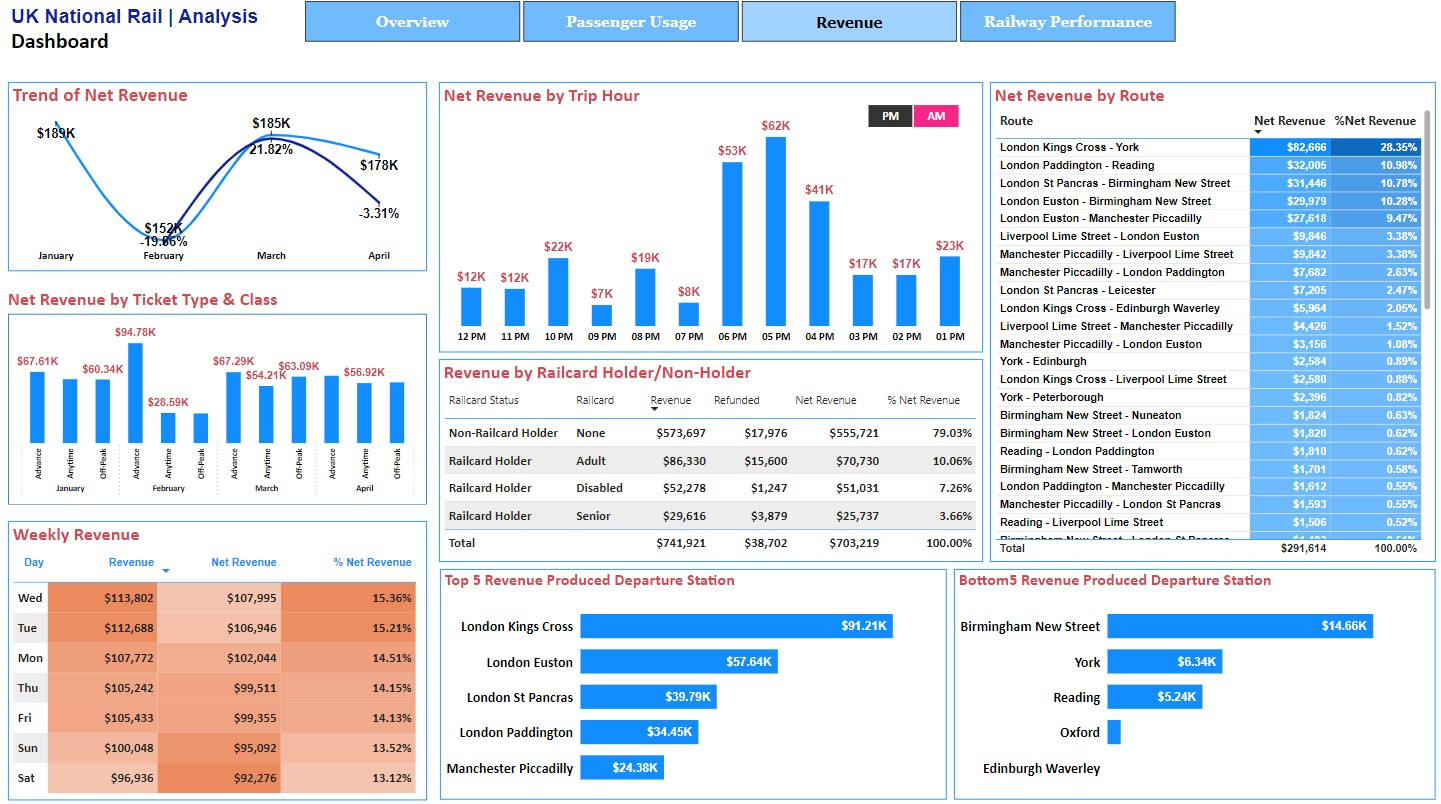

Layout of this report page (visuals, bound fields, positions):
{"tool":"powerbi","page":{"name":"Revenue","canvas":[1780,1000],"ordinal":2},"visuals":[{"type":"shape","title":"Net Revenue by Ticket Type & Class","box":[14.8,359.9,516,268.5],"z":0,"group":"g1"},{"type":"pageNavigator","title":"Uk Rail Dashboard","box":[381,7,1073,50],"z":0},{"type":"textbox","box":[13.5,7.4,325.1,81.3],"z":1000},{"type":"columnChart","fields":{"Y":["Sum(railway.Net Revenue)"],"Category":["railway.Date of Journey.Variation.Date Hierarchy.Month","railway.Ticket Type"]},"box":[21.2,394.7,503.7,232.8],"z":1000,"group":"g1"},{"type":"lineChart","title":"Trend of Net Revenue","fields":{"Category":["railway.Date of Journey.Variation.Date Hierarchy.Month"],"Y":["Sum(railway.Net Revenue)"],"Y2":["railway.Net Revenue MoM%"]},"box":[14.8,107.1,516,232.8],"z":2000},{"type":"group","id":"g1","title":"Group 1","box":[14.8,359.9,516,268.5],"z":3000},{"type":"tableEx","title":"Revenue by Railcard Holder/Non-Holder","fields":{"Values":["railway.Railcard Status","railway.Railcard","Sum(railway.Price)","Sum(railway.Refunded)","Sum(railway.Net Revenue)","Divide(Sum(railway.Net Revenue), ScopedEval(Sum(railway.Net Revenue), []))"]},"box":[545.6,448.3,670,250],"z":4000},{"type":"tableEx","title":"Weekly Revenue","fields":{"Values":["railway.DayOfWeek","Sum(railway.Price)","Sum(railway.Net Revenue)","Divide(Sum(railway.Net Revenue), ScopedEval(Sum(railway.Net Revenue), []))"]},"box":[14.8,647.8,516,343.6],"z":5000},{"type":"columnChart","title":"Net Revenue by Trip Hour","fields":{"Category":["railway.NormalizedHour"],"Y":["Sum(railway.Net Revenue)"]},"box":[545.6,107.1,670,332.5],"z":6000},{"type":"slicer","fields":{"Values":["railway.TimePeriod"]},"box":[1050.5,130.5,158.9,34.5],"z":7000},{"type":"tableEx","title":"Net Revenue by Route ","fields":{"Values":["railway.Route","Sum(railway.Net Revenue)","Divide(Sum(railway.Net Revenue), ScopedEval(Sum(railway.Net Revenue), []))"]},"box":[1224.1,106.7,549,590.6],"z":8000},{"type":"barChart","title":"Top 5 Revenue Produced Departure Station","fields":{"Category":["railway.Departure Station"],"Y":["Sum(railway.Net Revenue)"]},"box":[546.2,707,623.8,284.2],"z":9000},{"type":"barChart","title":"Bottom5 Revenue Produced Departure Station","fields":{"Category":["railway.Departure Station"],"Y":["Sum(railway.Net Revenue)"]},"box":[1179.7,707,593.3,284.2],"z":10000}]}

Visuals, with their boxes in screenshot pixels (x1, y1, x2, y2), scaled from the page's 1780x1000 canvas onto the 1441x804 screenshot:
"Net Revenue by Ticket Type & Class" shape: box=[12, 289, 430, 505]
"Uk Rail Dashboard" pageNavigator: box=[308, 6, 1177, 46]
textbox: box=[11, 6, 274, 71]
columnChart - Sum(railway.Net Revenue) x railway.Date of Journey.Variation.Date Hierarchy.Month: box=[17, 317, 425, 505]
"Trend of Net Revenue" lineChart: box=[12, 86, 430, 273]
"Group 1" group: box=[12, 289, 430, 505]
"Revenue by Railcard Holder/Non-Holder" tableEx: box=[442, 360, 984, 561]
"Weekly Revenue" tableEx: box=[12, 521, 430, 797]
"Net Revenue by Trip Hour" columnChart: box=[442, 86, 984, 353]
slicer - railway.TimePeriod: box=[850, 105, 979, 133]
"Net Revenue by Route " tableEx: box=[991, 86, 1435, 561]
"Top 5 Revenue Produced Departure Station" barChart: box=[442, 568, 947, 797]
"Bottom5 Revenue Produced Departure Station" barChart: box=[955, 568, 1435, 797]
